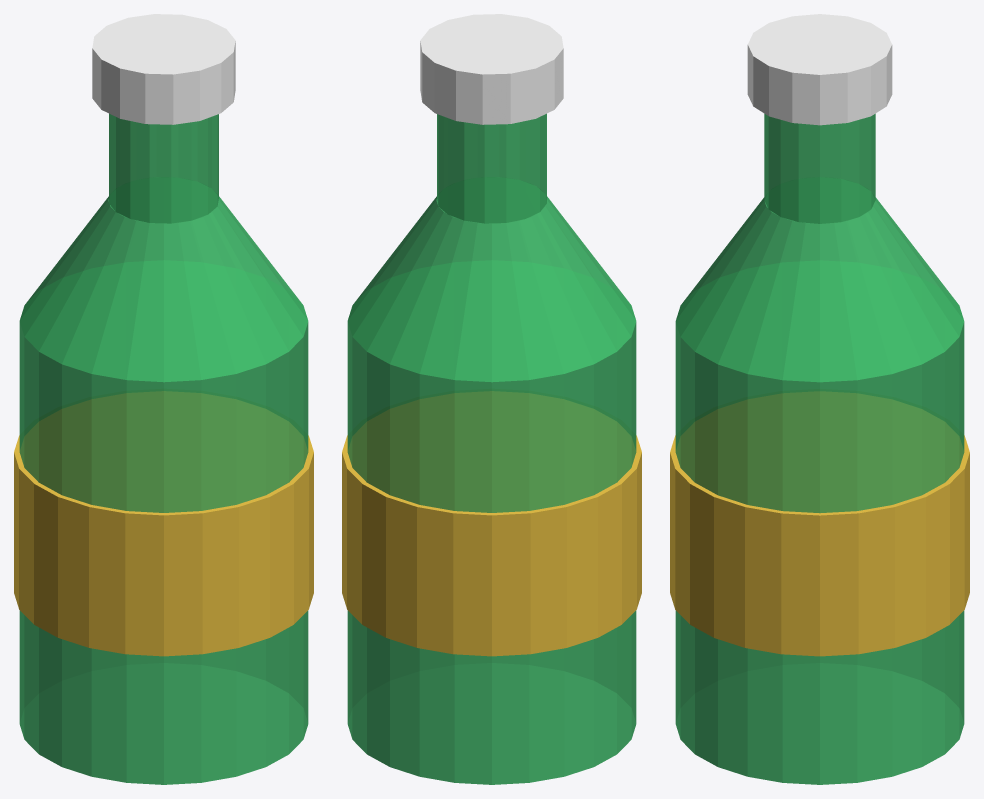
Rendered from Botol1.fbx.
3 views of the same model, side by side, from view 1: azimuth 30°, elevation 25°; view 2: azimuth 150°, elevation 25°; view 3: azimuth 270°, elevation 25° (orthographic).
Visible parts, largest first — view 1: Botol; view 2: Botol; view 3: Botol.
Part boxes in pixels (x1,y1,x2,y2): Botol: (14, 14, 313, 784); Botol: (342, 14, 641, 784); Botol: (670, 14, 969, 784).
Size of the model in its own units: 27 by 67.5 by 27.
